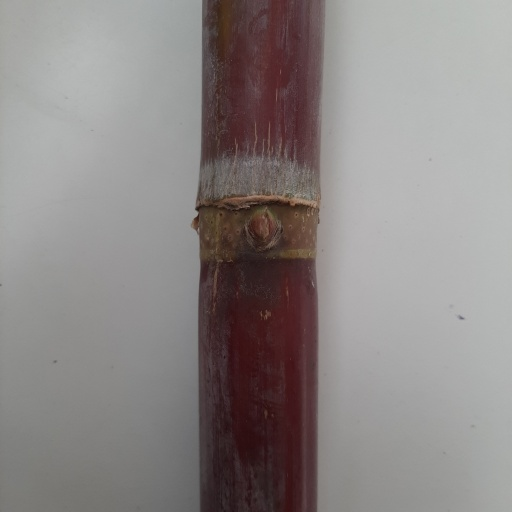Bud: (245, 207, 278, 246)
